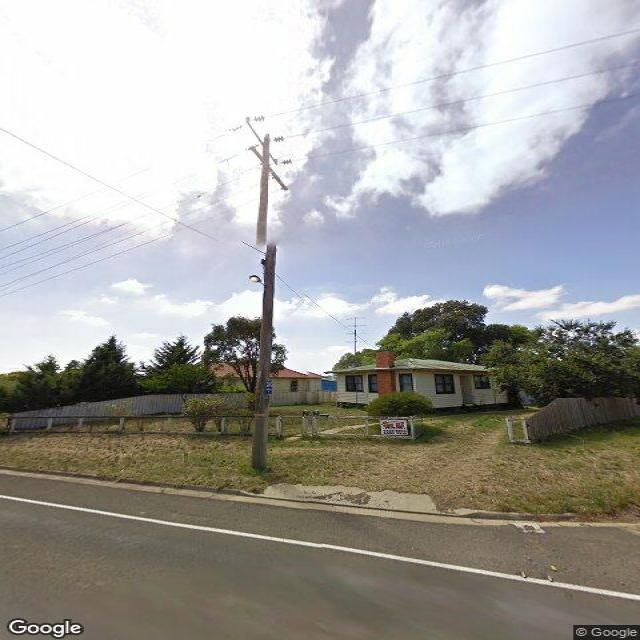HV-transmission: (230, 116, 292, 166)
crossarm: (248, 148, 288, 191), (246, 121, 278, 166)
timber-pole: (250, 136, 282, 468)
